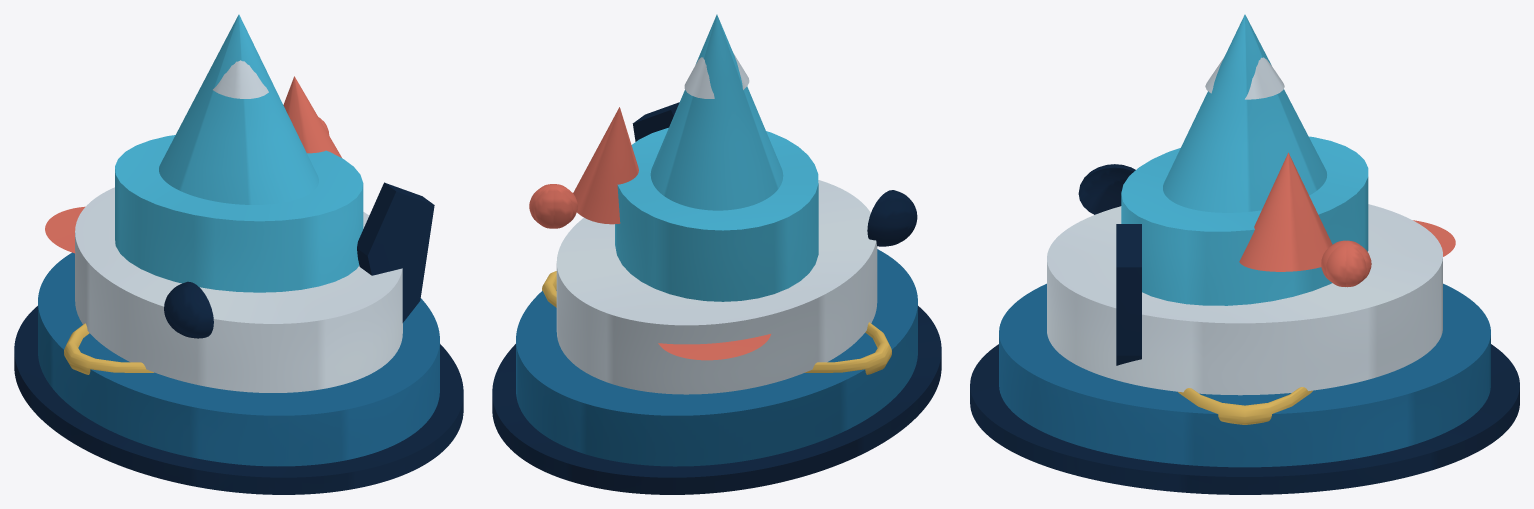
Rendered from 0963_农业科技图鉴_高山美利奴羊.glb.
3 renders of one model, left to right at view 1: azimuth 30°, elevation 25°; view 2: azimuth 150°, elevation 25°; view 3: azimuth 270°, elevation 25°, orthographic. The views are drawn at different scales.
Parts seen in each view (by area): view 1: card_0963; view 2: card_0963; view 3: card_0963.
Part boxes in pixels (box(x1,y1,x2,y2)): card_0963: box(14, 14, 463, 494); card_0963: box(492, 14, 941, 494); card_0963: box(970, 14, 1519, 494).
Bounding box in the file's own units: 1.01 × 1 × 1.28.
